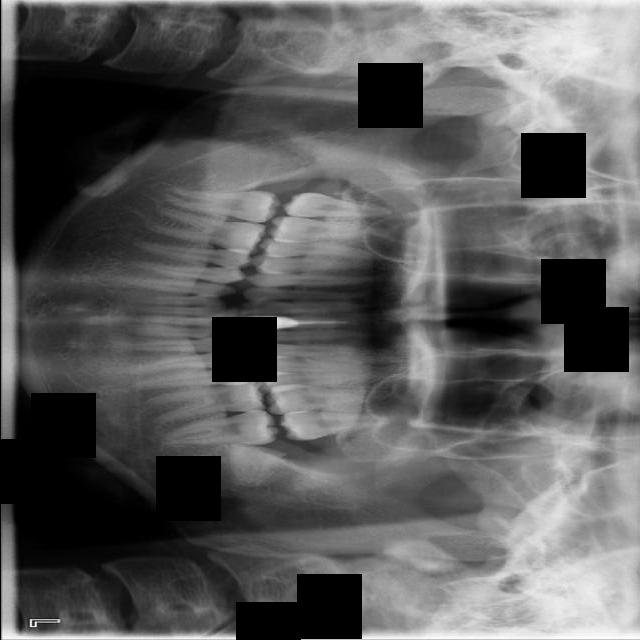52: (241, 315, 295, 329)
73: (288, 317, 359, 329), (35, 612, 51, 620)
BioHorizons Implant: (276, 402, 396, 443)
Biomet 3i Implant: (222, 441, 287, 491)
Blue Sky Bio Implant: (162, 406, 281, 456)
Caries: (279, 192, 400, 218)
Implant: (167, 188, 279, 223)
